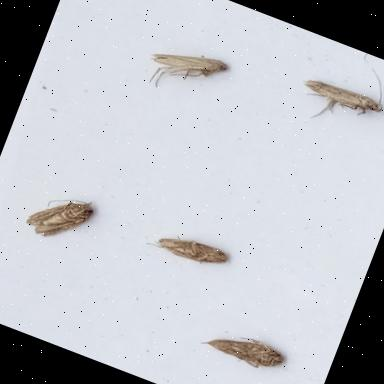pbw: (292, 46, 384, 140), (142, 36, 230, 109), (24, 182, 98, 250), (201, 322, 288, 376), (148, 224, 231, 273)
